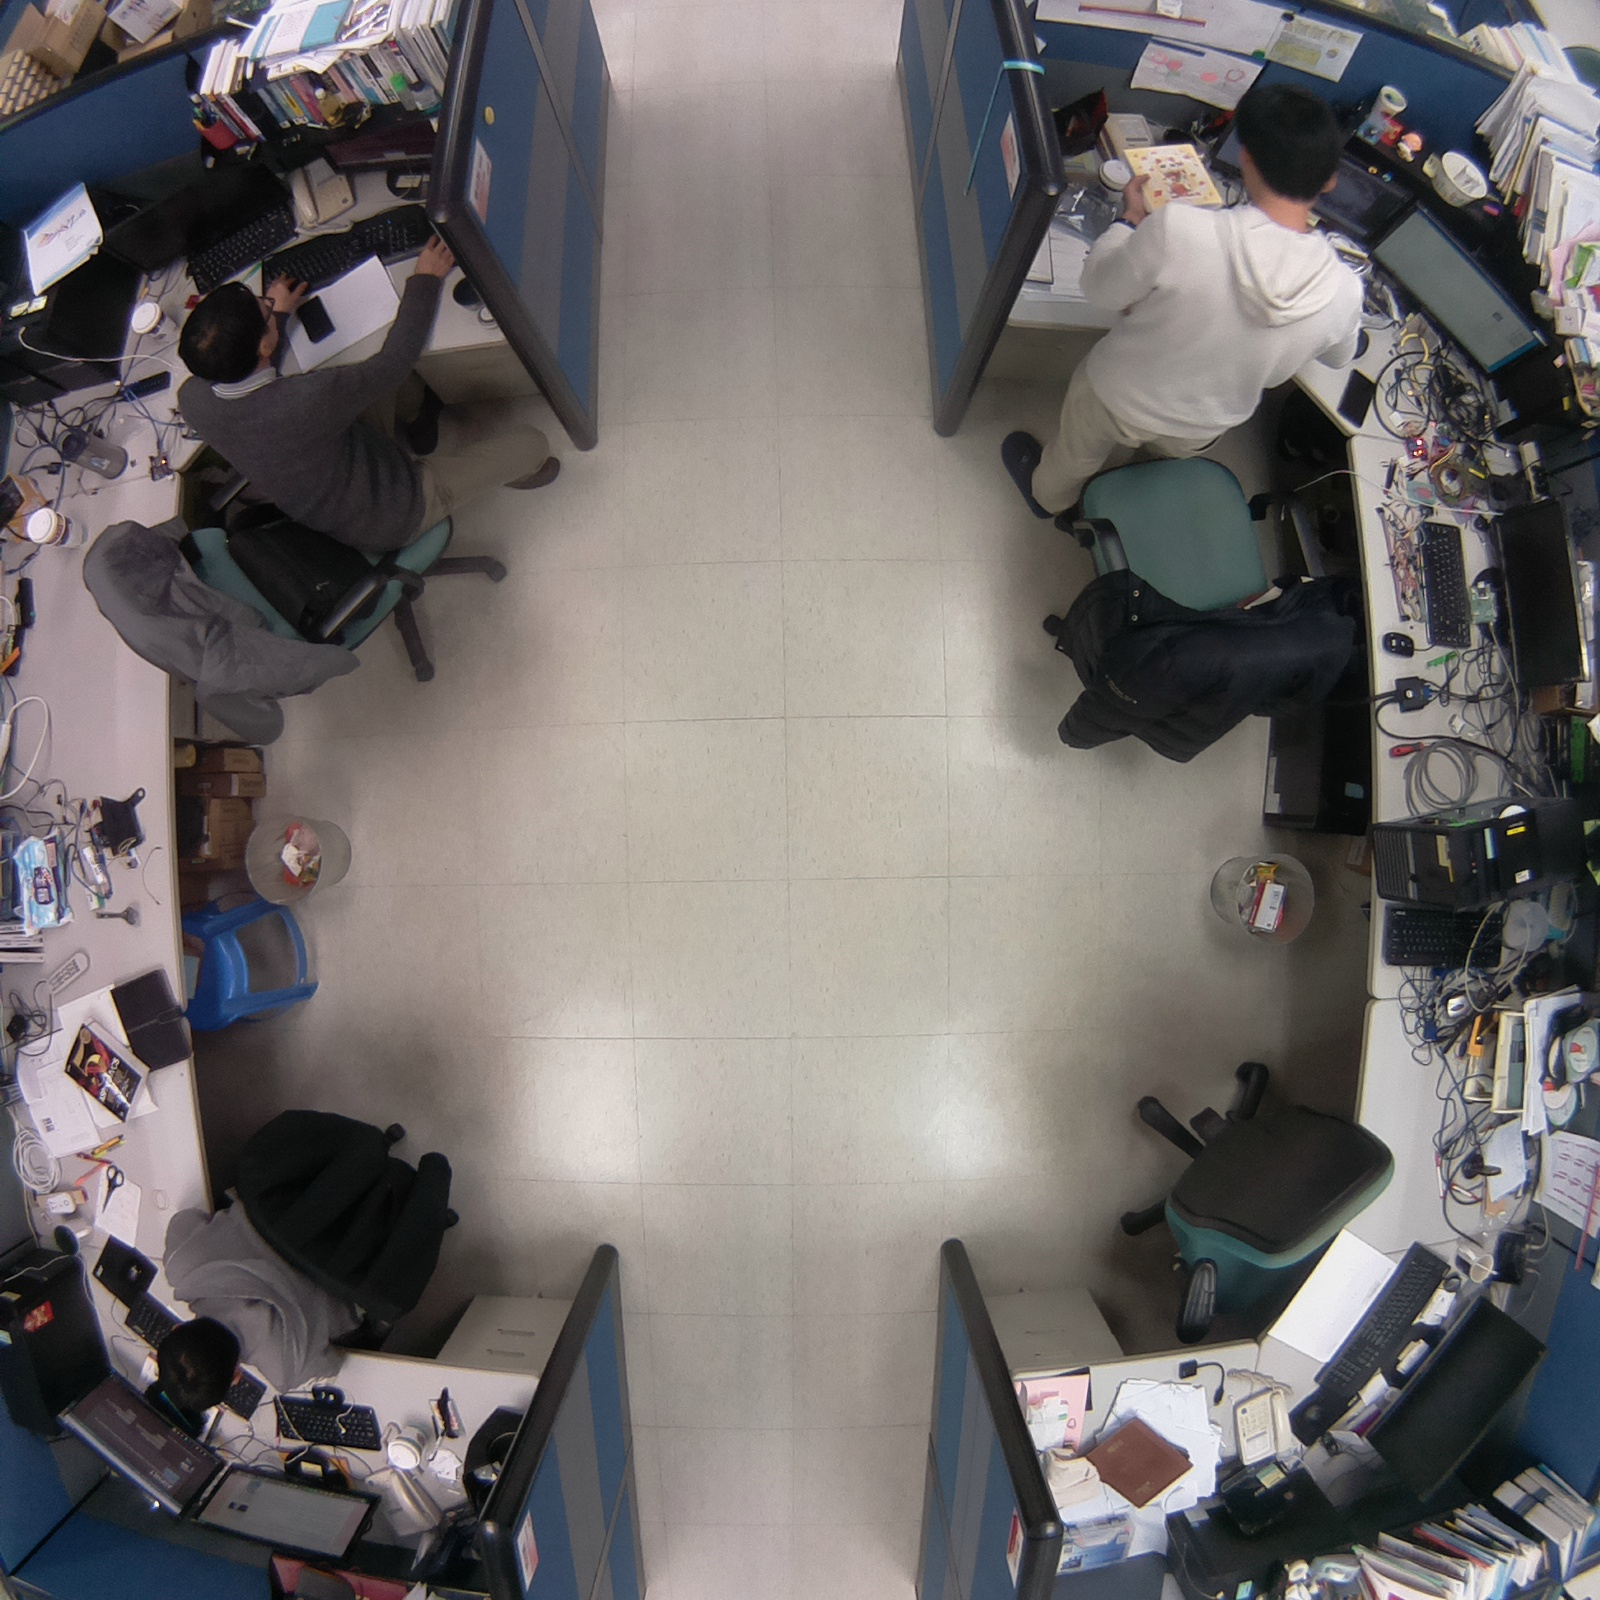chair: (999, 434, 1376, 786), (1104, 1040, 1399, 1347)
head: (1223, 74, 1353, 204), (172, 276, 287, 380), (146, 1317, 246, 1421)
sitting: (70, 275, 570, 724), (128, 1093, 468, 1423)
standing: (984, 63, 1383, 531)
